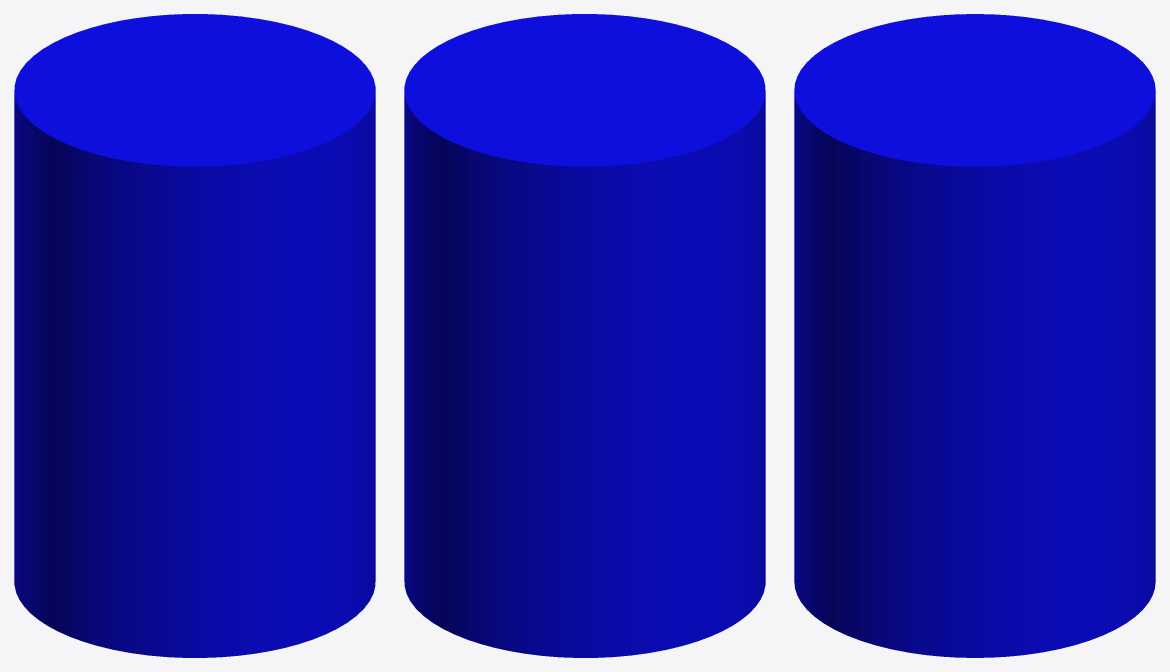
3 views of the same model, side by side, from view 1: azimuth 30°, elevation 25°; view 2: azimuth 150°, elevation 25°; view 3: azimuth 270°, elevation 25° (orthographic).
Visible parts, largest first — view 1: base_link.001; view 2: base_link.001; view 3: base_link.001.
Boxes of the visible parts, x1=… form: base_link.001: x1=14, y1=14, x2=375, y2=657; base_link.001: x1=404, y1=14, x2=765, y2=657; base_link.001: x1=794, y1=14, x2=1155, y2=657.
Bounding box in the file's own units: 0.1 × 0.1 × 0.15.
